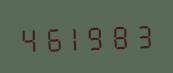eight: (110, 19, 132, 51)
four: (17, 22, 39, 54)
nine: (87, 19, 109, 52)
one: (64, 20, 86, 53)
six: (40, 21, 62, 53)
three: (133, 18, 155, 50)
